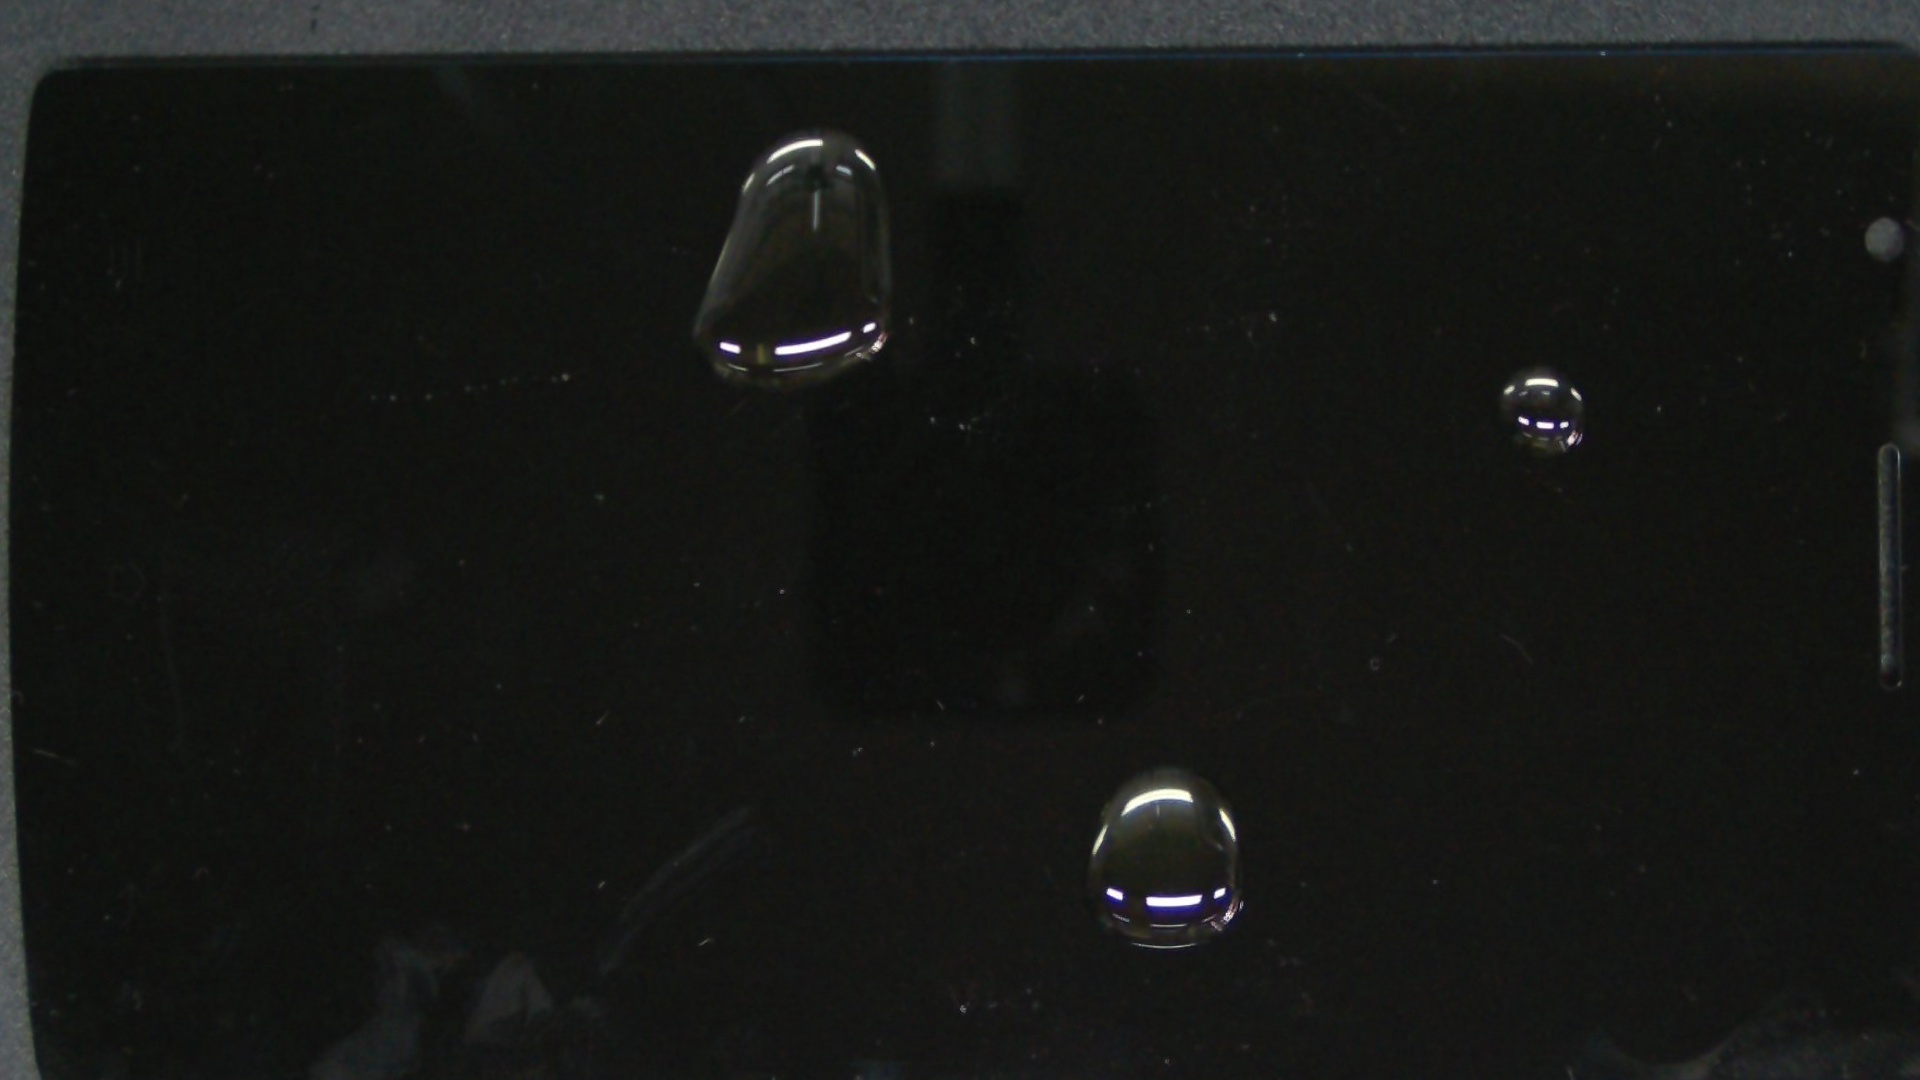oil: (550, 342, 1818, 1080), (724, 141, 1920, 588), (372, 28, 1284, 236)
